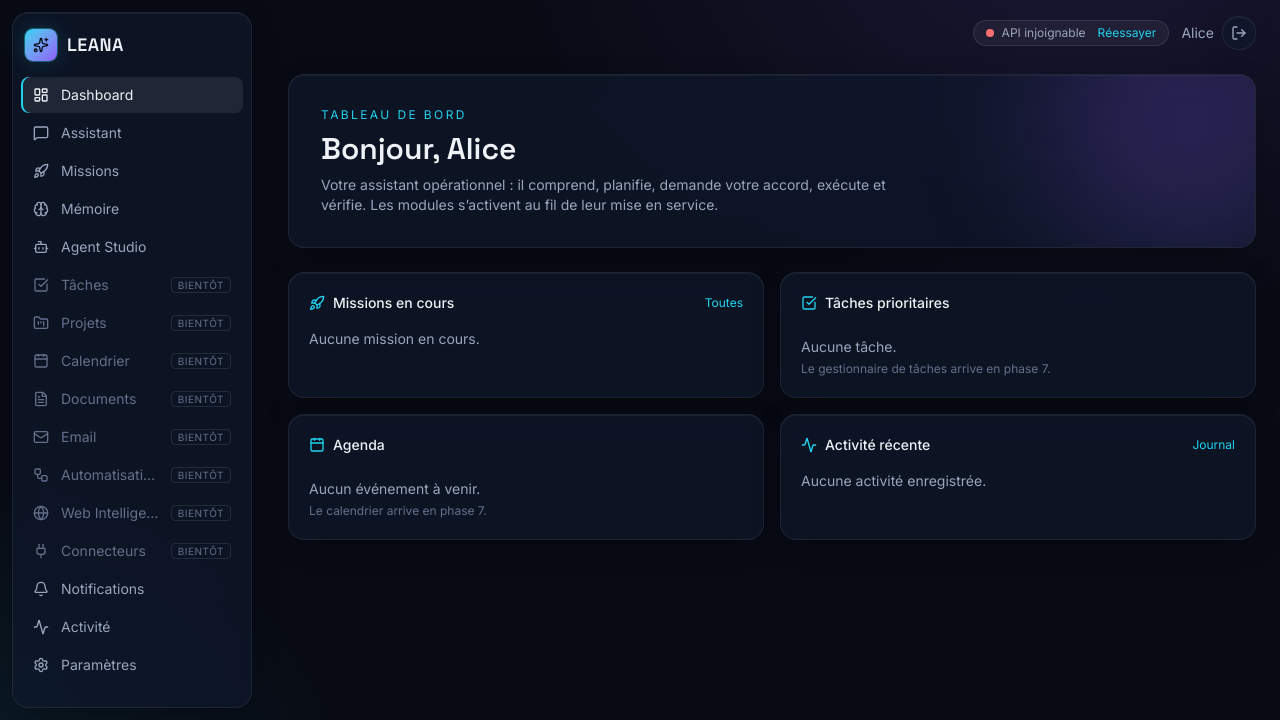
Test: signed-in shell › reports an unreachable API and lets the user retry
Expected: the text "API injoignable" is shown, [1002, 25, 1086, 41]
Click the button "Réessayer" at (1127, 33), box [1098, 25, 1156, 41]
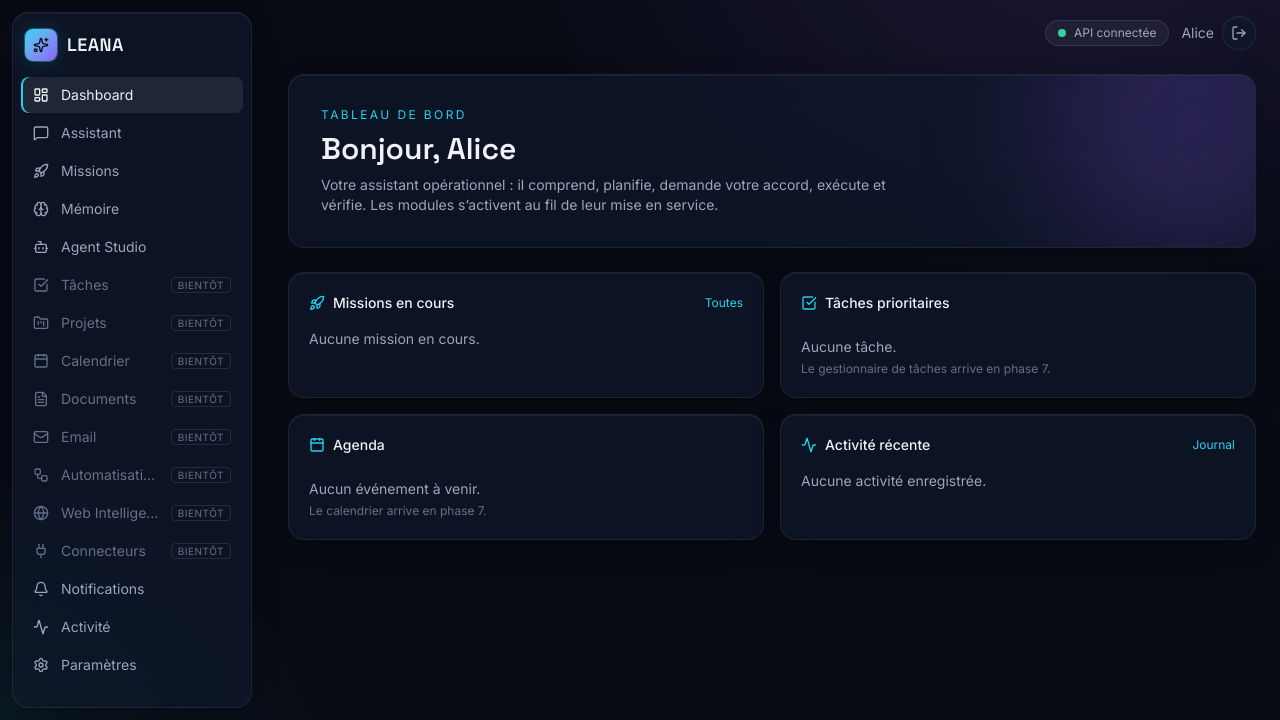
Result: the text "API connectée" is shown at [1074, 25, 1156, 41]
